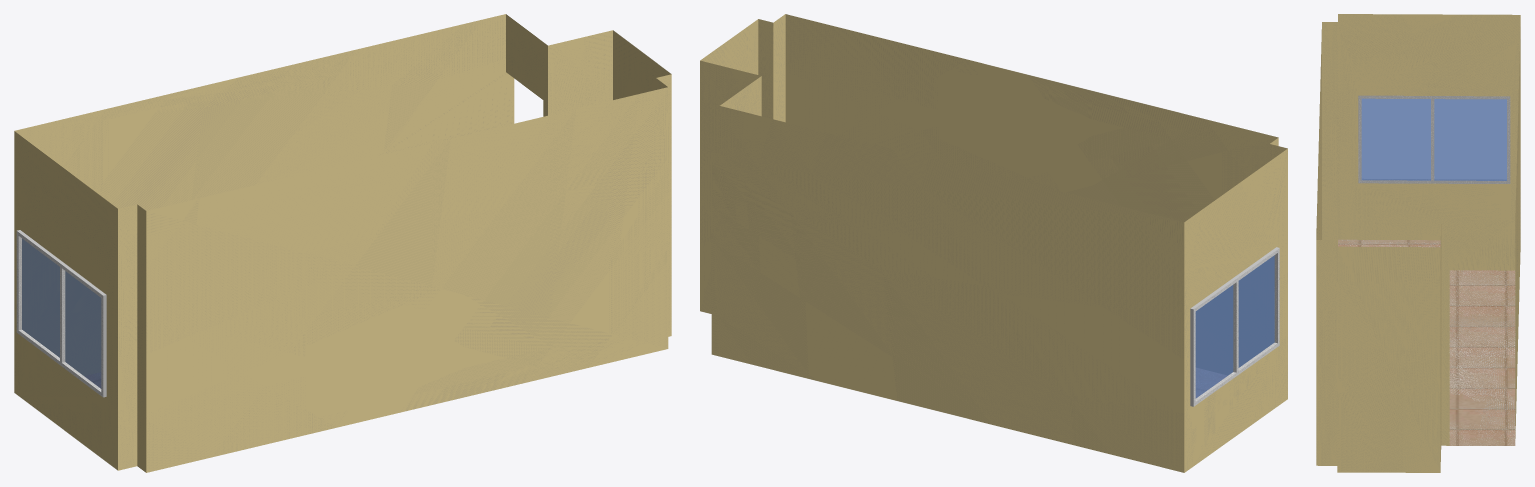
Rendered from DES025.obj.
The picture shows the model from 3 angles, left to right: view 1: azimuth 30°, elevation 25°; view 2: azimuth 150°, elevation 25°; view 3: azimuth 270°, elevation 25°; orthographic projection. The views are drawn at different scales.
Parts seen in each view (by area): view 1: Mesh6 DES025 Model, Mesh1 ventana2_1 DES025 Model; view 2: Mesh6 DES025 Model, Mesh1 ventana2_1 DES025 Model; view 3: Mesh6 DES025 Model, Mesh1 ventana2_1 DES025 Model.
Part boxes in pixels (x1,y1,x2,y2): Mesh6 DES025 Model: [14, 14, 671, 472]; Mesh1 ventana2_1 DES025 Model: [16, 230, 106, 397]; Mesh6 DES025 Model: [700, 14, 1287, 472]; Mesh1 ventana2_1 DES025 Model: [1190, 247, 1279, 406]; Mesh6 DES025 Model: [1316, 14, 1520, 472]; Mesh1 ventana2_1 DES025 Model: [1358, 95, 1510, 183].
Size of the model in its own units: 8.02 by 3.6 by 2.96.
Materials: 8 (2 with a texture image).
